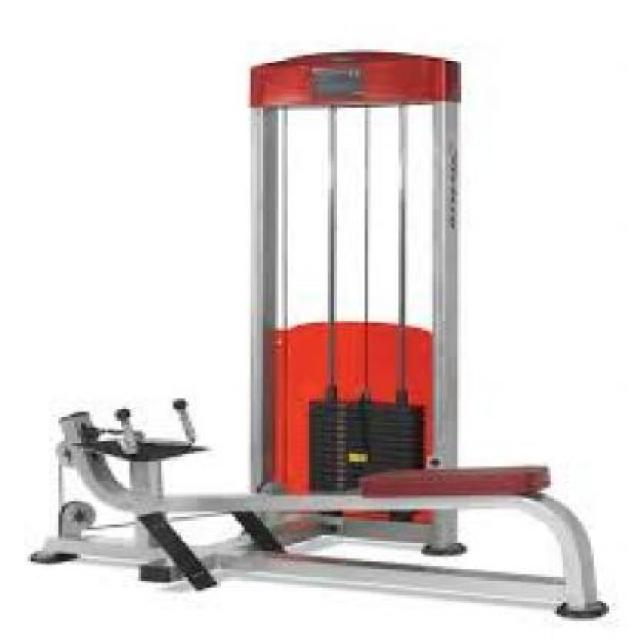Seated Cable Rows: (26, 36, 625, 624)
